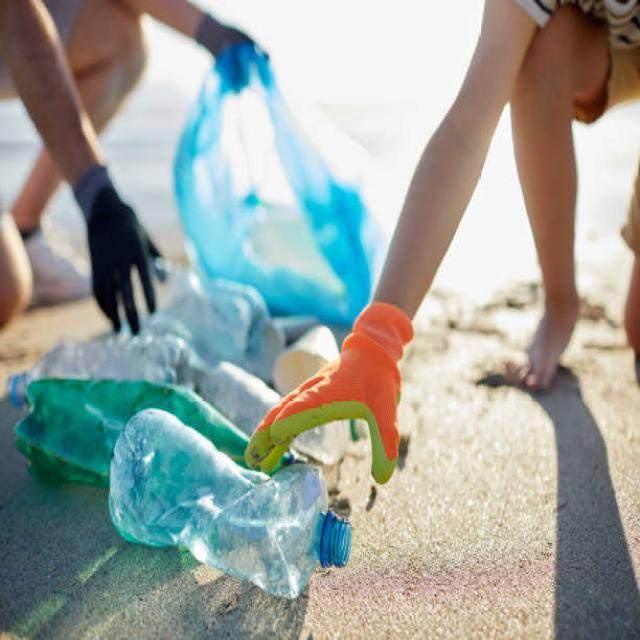plastic: (23, 339, 396, 610)
trash: (173, 41, 416, 322)
